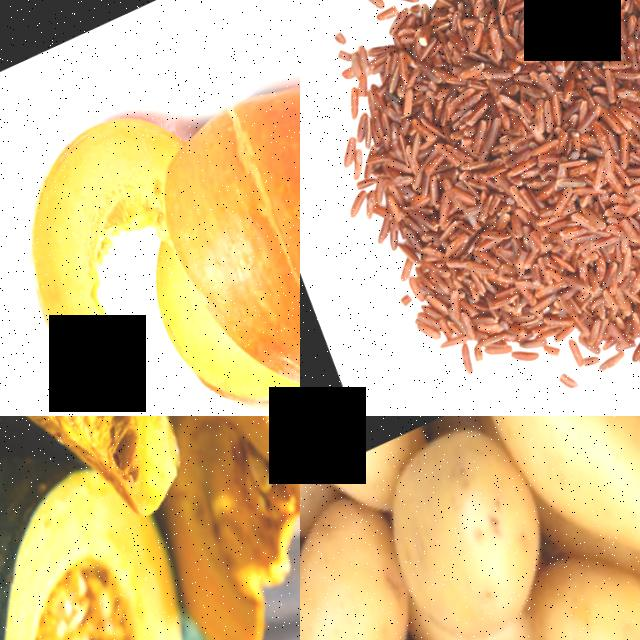potato: (352, 416, 586, 640), (480, 416, 640, 608), (300, 488, 474, 640), (510, 532, 640, 640)
pumpkin: (110, 36, 300, 416), (0, 101, 205, 369), (0, 432, 231, 640), (0, 416, 229, 593), (125, 416, 300, 640)
red rice: (300, 0, 640, 416)
